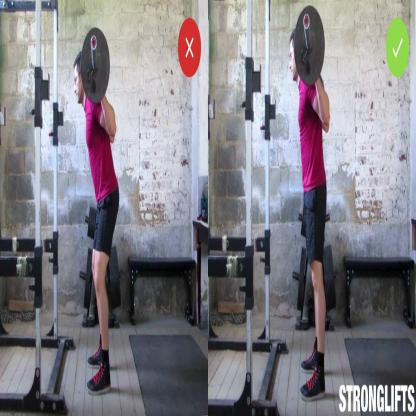Barbell: (292, 3, 328, 91), (79, 21, 114, 106)
